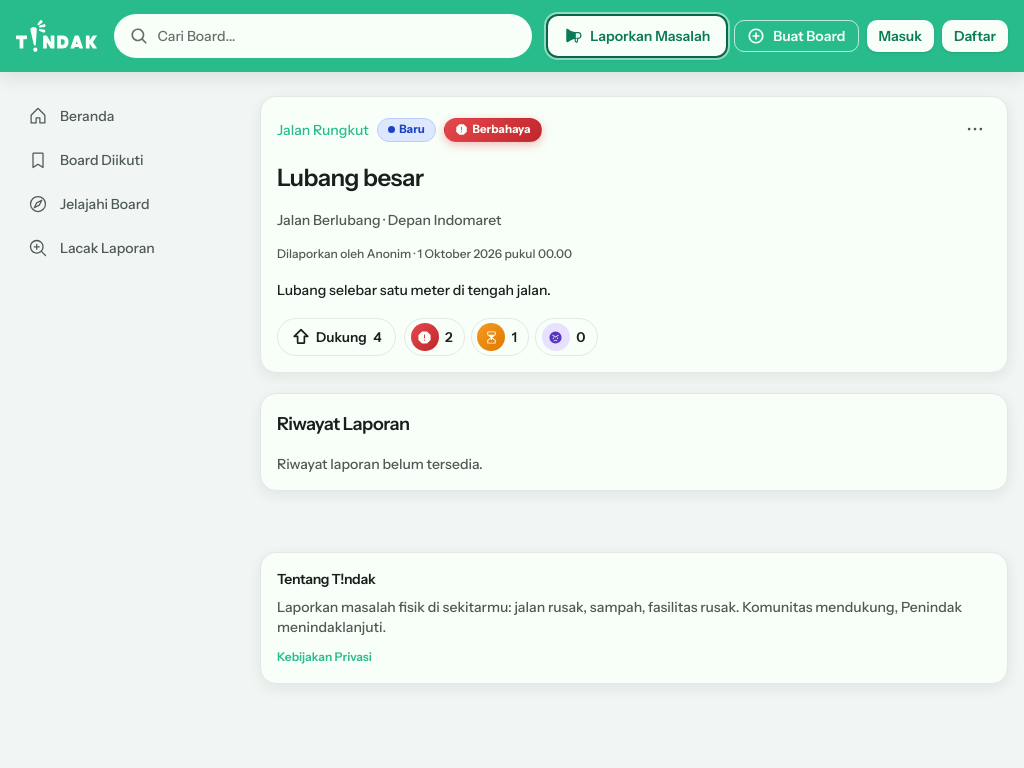
Test case: EngagementBar › tamu diminta masuk dan aksinya disimpan
Click the button with aria-label "Dukung," at [337, 337], box x1=277 y1=318 x2=396 y2=356
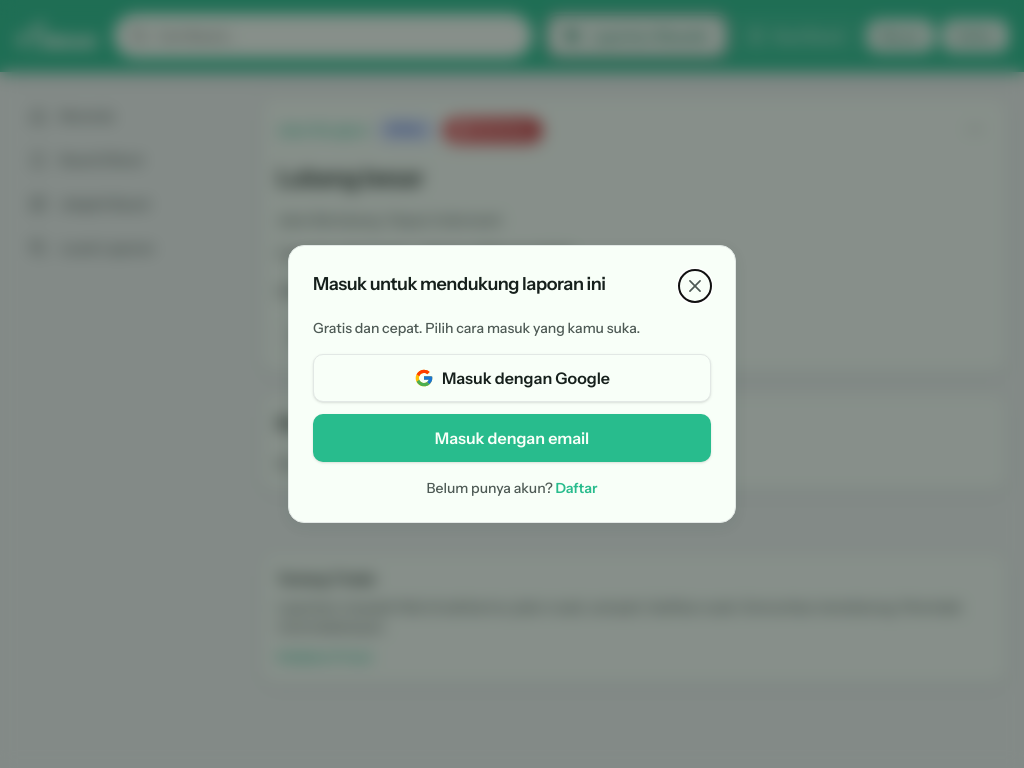
Now the heading "Masuk untuk mendukung laporan ini" is shown, box x1=313 y1=270 x2=606 y2=298
